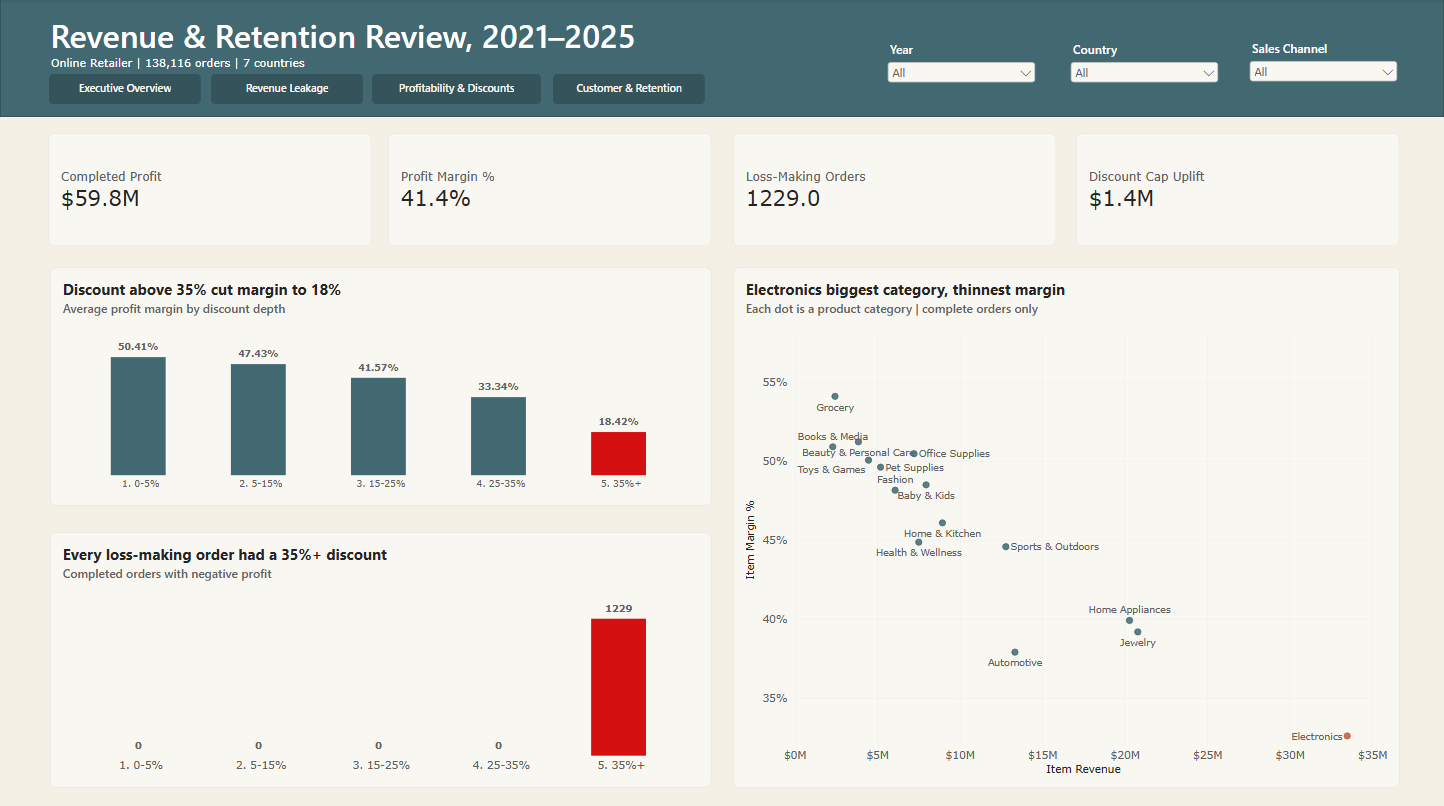

The page's visual inventory and layout, read from the dashboard file:
{"tool":"powerbi","page":{"name":"Profitability & Discounts","canvas":[1920,1080],"ordinal":2},"visuals":[{"type":"cardVisual","fields":{"Data":["_Measures.Completed Profit"]},"box":[63.8,178.2,430.9,150.3],"z":0},{"type":"cardVisual","fields":{"Data":["_Measures.Profit Margin %"]},"box":[516.1,178.2,430.9,150.3],"z":1000},{"type":"cardVisual","fields":{"Data":["_Measures.Loss-Making Orders"]},"box":[974.9,178.2,430.9,150.3],"z":2000},{"type":"cardVisual","fields":{"Data":["_Measures.Discount Cap Uplift"]},"box":[1431.1,178.2,430.9,150.3],"z":3000},{"type":"columnChart","title":"Discount above 35% cut margin to 18%","fields":{"Category":["fact_orders.discount_band"],"Y":["_Measures.Profit Margin %"]},"box":[66.5,356.5,880.5,317.9],"z":4000},{"type":"columnChart","title":"Every loss-making order had a 35%+ discount","fields":{"Category":["fact_orders.discount_band"],"Y":["_Measures.Loss-Making Orders"]},"box":[66.5,708.9,880.5,340.5],"z":5000},{"type":"scatterChart","title":"Electronics biggest category, thinnest margin","fields":{"Category":["fact_order_items.product_category"],"X":["_Measures.Item Revenue"],"Y":["_Measures.Item Margin %"]},"box":[974.9,356.5,887.1,693],"z":6000},{"type":"shape","box":[0,0,1920.6,156.9],"z":7000},{"type":"textbox","box":[22.6,18.6,867.2,81.1],"z":8000},{"type":"slicer","fields":{"Values":["dim_date.Year"]},"box":[1175.8,55.9,206.2,61.2],"z":9000},{"type":"slicer","fields":{"Values":["dim_customers.customer_country"]},"box":[1419.2,55.9,206.2,61.2],"z":10000},{"type":"slicer","fields":{"Values":["fact_orders.sales_channel"]},"box":[1657.2,54.5,206.2,62.5],"z":11000},{"type":"actionButton","title":"Executive Overview","box":[65.2,99.8,202.2,39.9],"z":12000},{"type":"actionButton","title":"Profitability & Discounts","box":[494.8,99.8,224.8,39.9],"z":13000},{"type":"actionButton","title":"Revenue Leakage","box":[280.6,99.8,202.2,39.9],"z":14000},{"type":"actionButton","title":"Customer & Retention","box":[735.5,99.8,202.2,39.9],"z":15000}]}

Visuals, with their boxes in screenshot pixels (x1, y1, x2, y2), scaled from the page's 1920x1080 canvas onto the 1444x806 screenshot:
cardVisual - _Measures.Completed Profit: 48, 133, 372, 245
cardVisual - _Measures.Profit Margin %: 388, 133, 712, 245
cardVisual - _Measures.Loss-Making Orders: 733, 133, 1057, 245
cardVisual - _Measures.Discount Cap Uplift: 1076, 133, 1400, 245
"Discount above 35% cut margin to 18%" columnChart: 50, 266, 712, 503
"Every loss-making order had a 35%+ discount" columnChart: 50, 529, 712, 783
"Electronics biggest category, thinnest margin" scatterChart: 733, 266, 1400, 783
shape: 0, 0, 1443, 117
textbox: 17, 14, 669, 74
slicer - dim_date.Year: 884, 42, 1039, 87
slicer - dim_customers.customer_country: 1067, 42, 1222, 87
slicer - fact_orders.sales_channel: 1246, 41, 1401, 87
"Executive Overview" actionButton: 49, 74, 201, 104
"Profitability & Discounts" actionButton: 372, 74, 541, 104
"Revenue Leakage" actionButton: 211, 74, 363, 104
"Customer & Retention" actionButton: 553, 74, 705, 104
